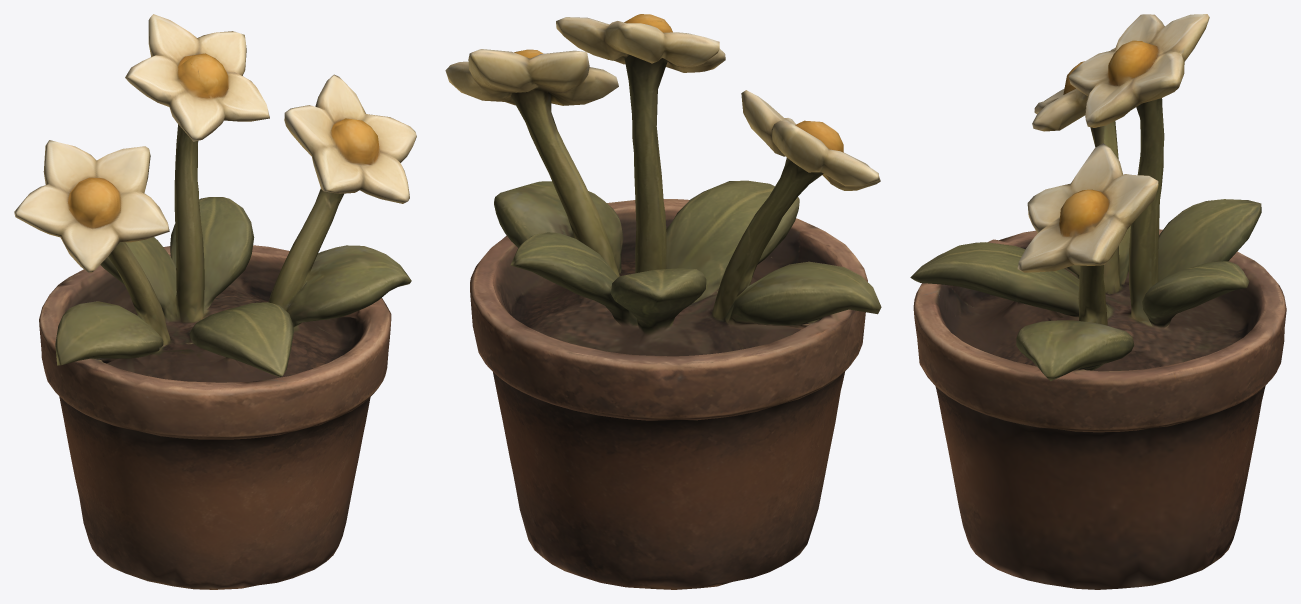
The model's file is Prop_GreenhousePotC.fbx.
The picture shows the model from 3 angles, left to right: view 1: azimuth 30°, elevation 25°; view 2: azimuth 150°, elevation 25°; view 3: azimuth 270°, elevation 25°; orthographic projection. The views are drawn at different scales.
Parts seen in each view (by area): view 1: texture_mapping; view 2: texture_mapping; view 3: texture_mapping.
Boxes of the visible parts, <box> form: texture_mapping: <box>14,14,416,589</box>; texture_mapping: <box>445,14,881,589</box>; texture_mapping: <box>910,14,1286,589</box>.
Size of the model in its own units: 0.8412 by 0.6638 by 1.
Materials: 1 (1 with a texture image).
